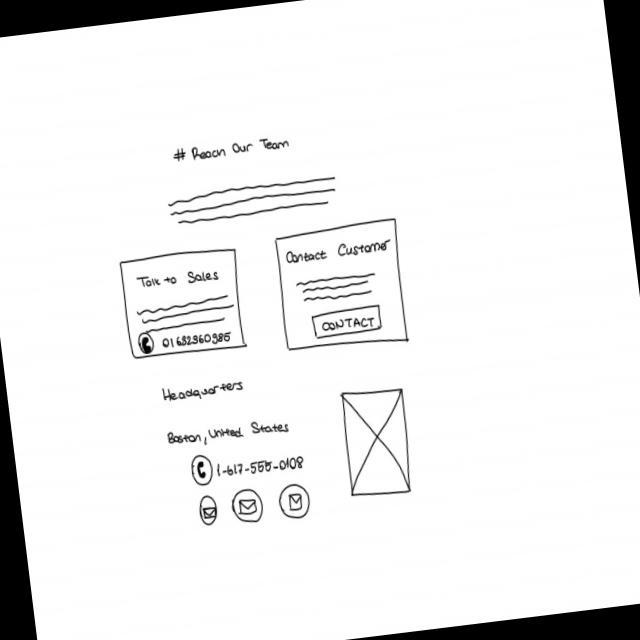button: (312, 304, 385, 341)
container: (273, 216, 412, 356), (119, 244, 249, 363)
icon-button: (230, 487, 266, 527), (277, 481, 313, 521), (190, 453, 216, 488), (199, 494, 221, 527), (137, 332, 156, 357)
image: (339, 385, 417, 501)
label: (166, 414, 293, 453), (171, 134, 293, 167), (285, 237, 395, 266), (216, 452, 308, 481), (161, 377, 246, 405), (136, 266, 222, 292), (161, 328, 235, 353)
text: (167, 175, 340, 229), (136, 293, 237, 335), (295, 271, 379, 305)
